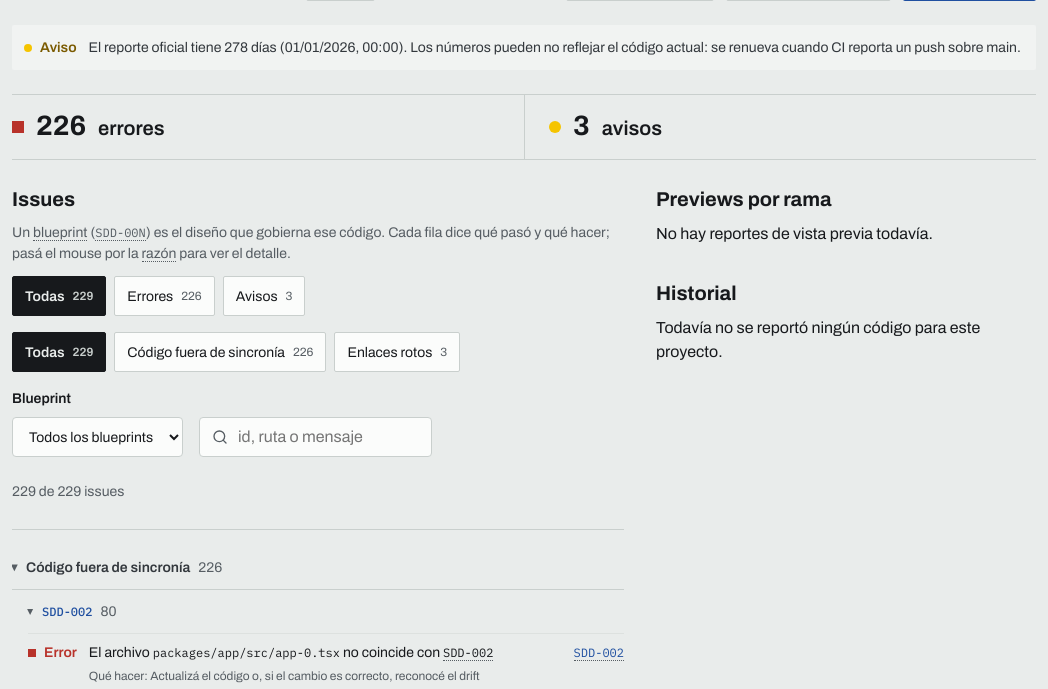
Test case: DriftDashboard · triage (SDD-061) › clears every filter back to the full list
This screenshot has width=1048, height=689.
Click the button "226 errores".
click(61, 126)  # box [12, 95, 524, 159]
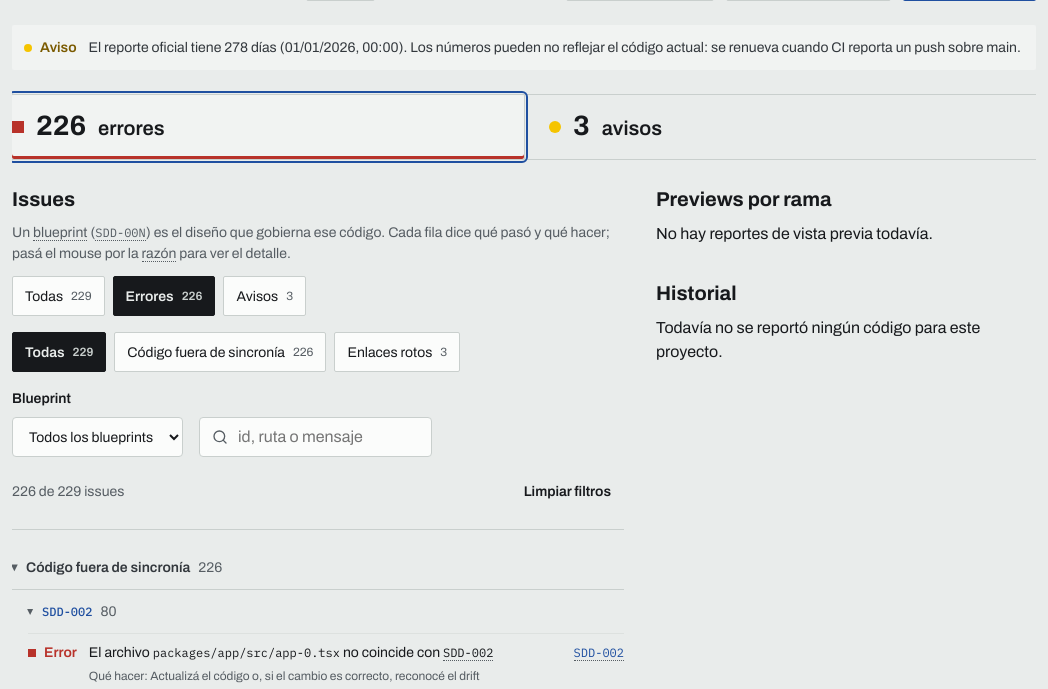
Select "SDD-002" in the dropdown labelled "Blueprint" at [98, 437], box [12, 417, 183, 457]
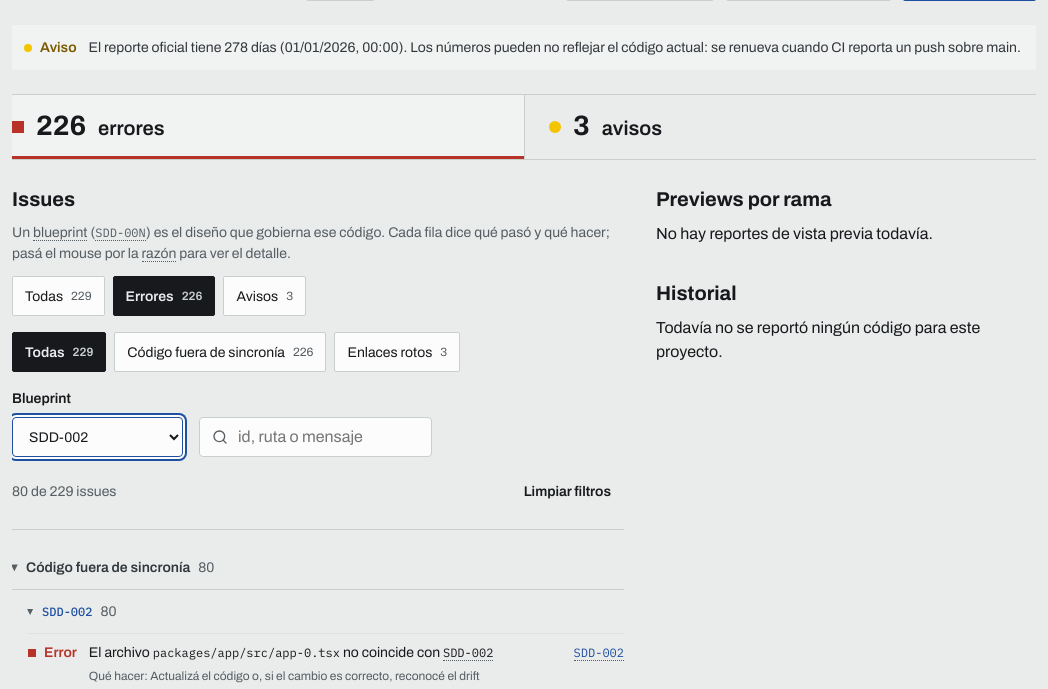
Click the button "Limpiar filtros".
click(567, 491)  # box [511, 475, 624, 507]
(page scrolled)
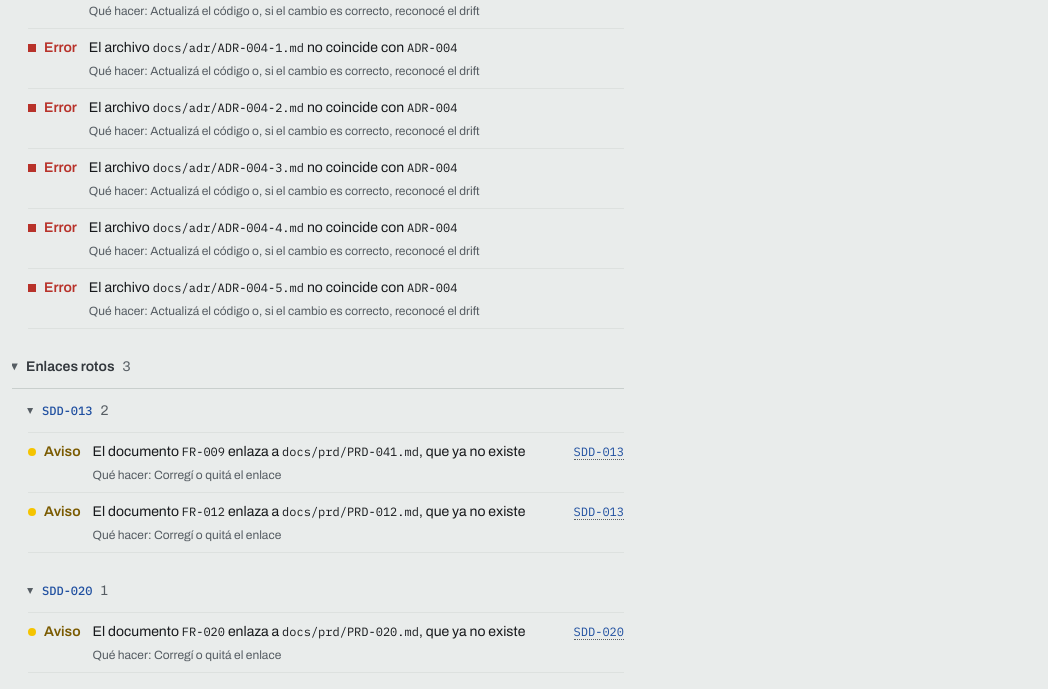
Check: the button "Limpiar filtros" is gone
Check: the element that starts with "Enlaces rotos" is shown, box [12, 345, 624, 673]
